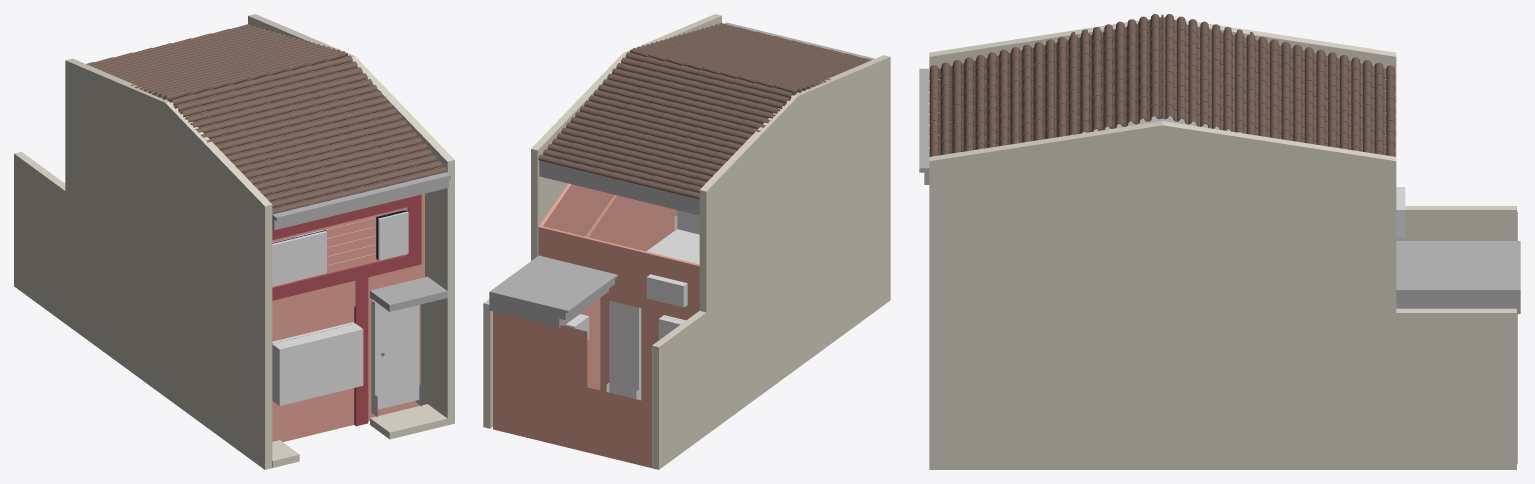
Rendered from houseModel.fbx.
The picture shows the model from 3 angles, left to right: view 1: azimuth 30°, elevation 25°; view 2: azimuth 150°, elevation 25°; view 3: azimuth 270°, elevation 25°; orthographic projection. The views are drawn at different scales.
Parts seen in each view (by area): view 1: Cube.003, Roof.002, wall.003, CTRL_Hole.015, Wall.001, CTRL_Hole.020, Cube.007, roof, CTRL_Hole.024, Cube.001, Cube.006, Cube.005 (+2 smaller); view 2: Cube.003, Roof.002, Wall.001, wall.003, Roof.001, roof, CTRL_Hole.018, Plane.001, CTRL_Hole.025, CTRL_Hole.027; view 3: Cube.003, Roof.002, Roof.001, roof.
Boxes of the visible parts, x1,y1,x2,y2 form: Cube.003: [14, 14, 454, 469]; Roof.002: [86, 24, 447, 214]; wall.003: [272, 193, 424, 326]; CTRL_Hole.015: [272, 322, 363, 405]; Wall.001: [272, 302, 420, 441]; CTRL_Hole.020: [371, 300, 419, 410]; Cube.007: [272, 194, 421, 300]; roof: [272, 172, 450, 230]; CTRL_Hole.024: [272, 230, 326, 286]; Cube.001: [370, 404, 447, 439]; Cube.006: [370, 276, 447, 311]; Cube.005: [354, 277, 368, 426]; Cube.003: [483, 14, 890, 469]; Roof.002: [538, 23, 871, 199]; Wall.001: [493, 298, 686, 467]; wall.003: [538, 183, 699, 319]; Roof.001: [489, 255, 617, 327]; roof: [539, 22, 874, 215]; CTRL_Hole.018: [609, 300, 641, 400]; Plane.001: [646, 229, 699, 264]; CTRL_Hole.025: [646, 274, 687, 307]; CTRL_Hole.027: [677, 210, 699, 234]; Cube.003: [929, 17, 1516, 469]; Roof.002: [929, 14, 1395, 156]; Roof.001: [1396, 241, 1520, 313]; roof: [919, 68, 1386, 184].
Size of the model in its own units: 386 by 581 by 903.
